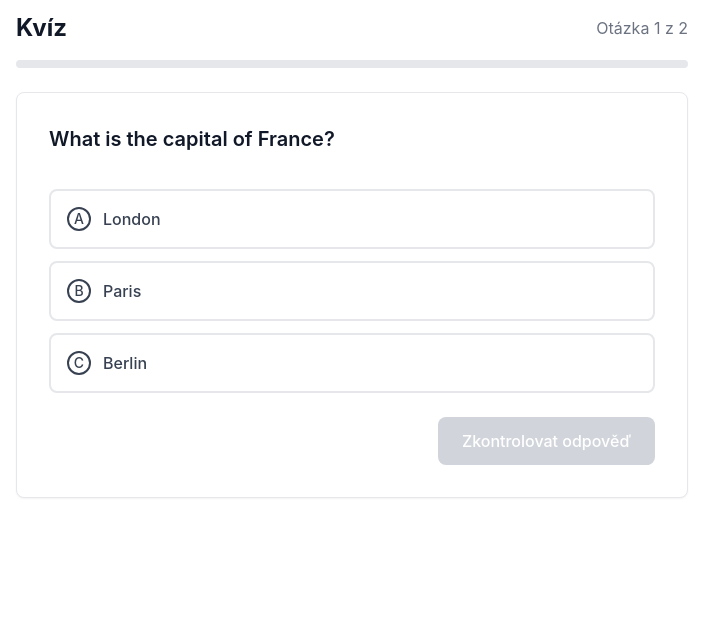
Test: ChapterQuiz › shows "Dokončit kvíz" button on last question
// Navigate to second question
Click the radio button with test id "option-1": (122, 291) [49,261,655,321]
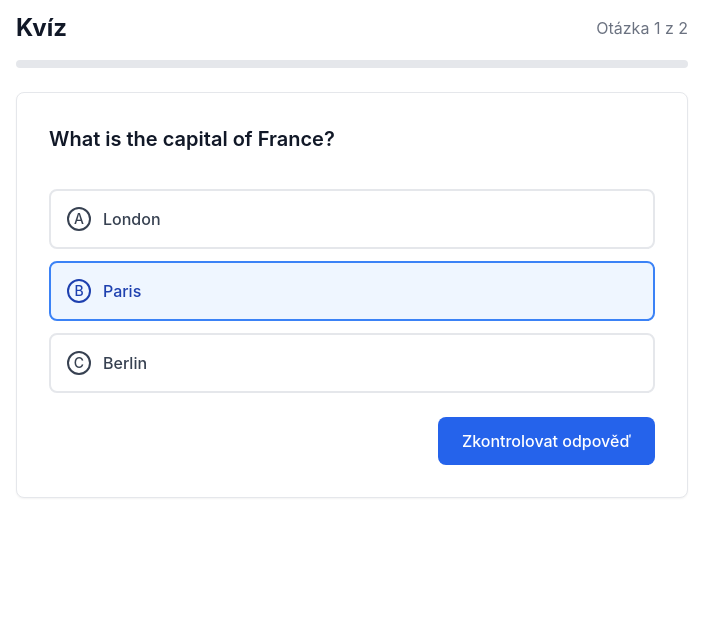
Click the button with test id "check-answer-button": (546, 441) [438,417,655,465]
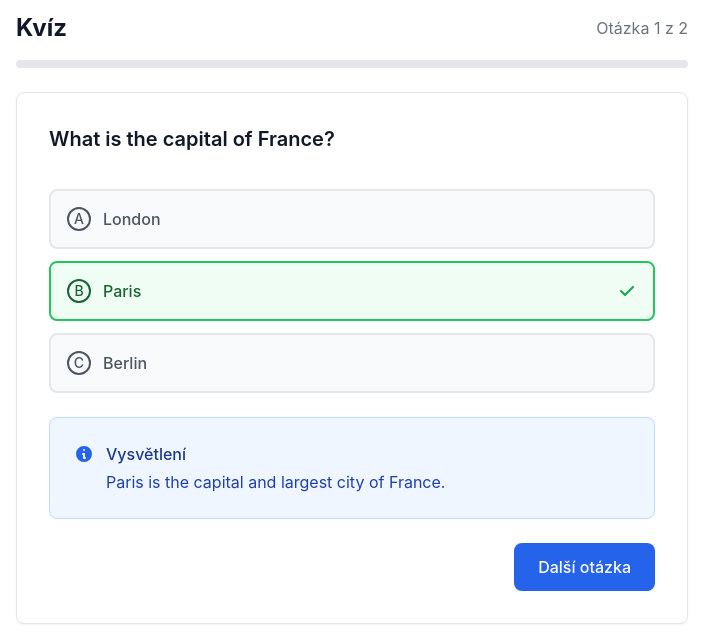
Click the button with test id "next-question-button": (585, 567) [514,543,655,591]
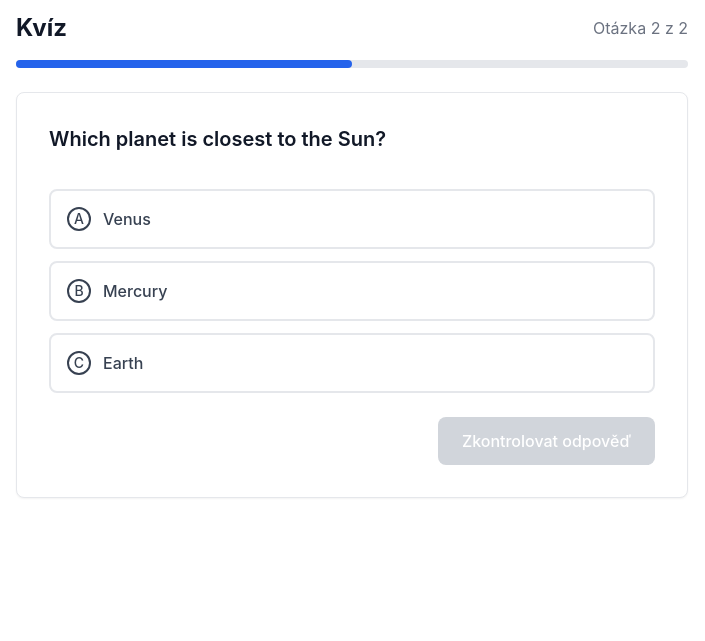
// Answer second question
Click the radio button with test id "option-1": (135, 291) [49,261,655,321]
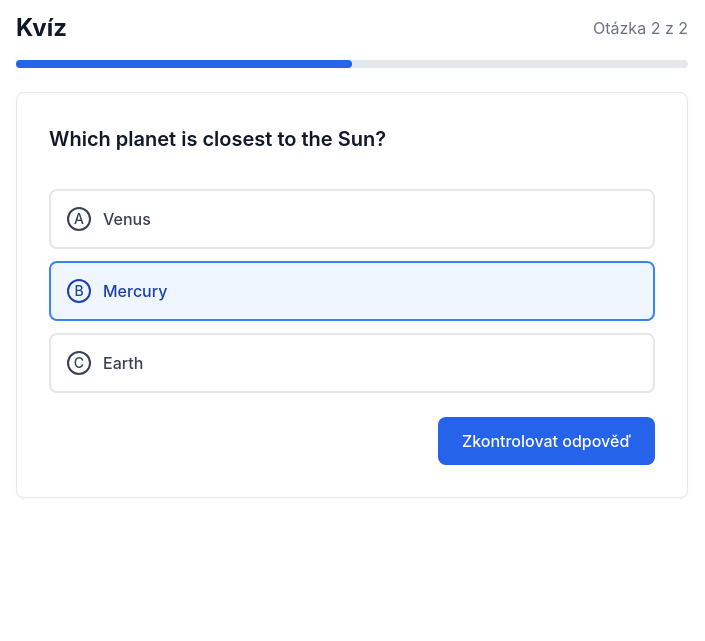
Click the button with test id "check-answer-button": (546, 441) [438,417,655,465]
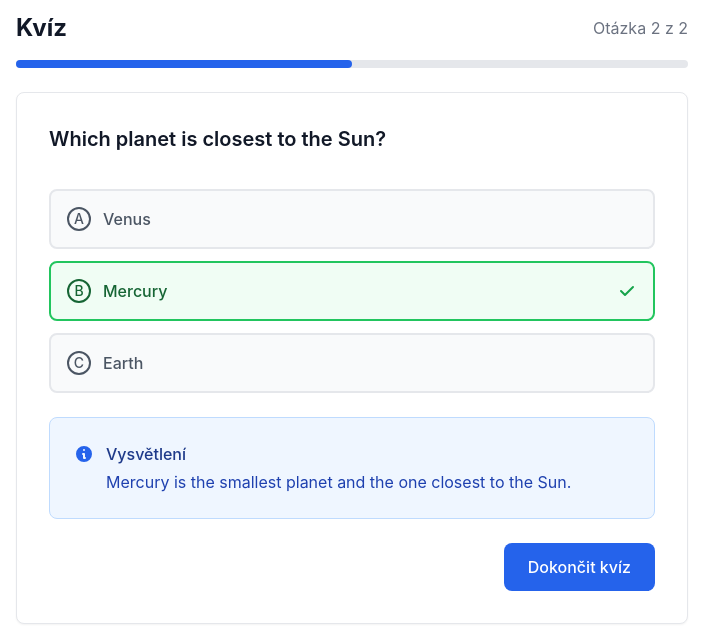
expect the button "Dokončit kvíz" is shown: met, box [504,543,655,591]
